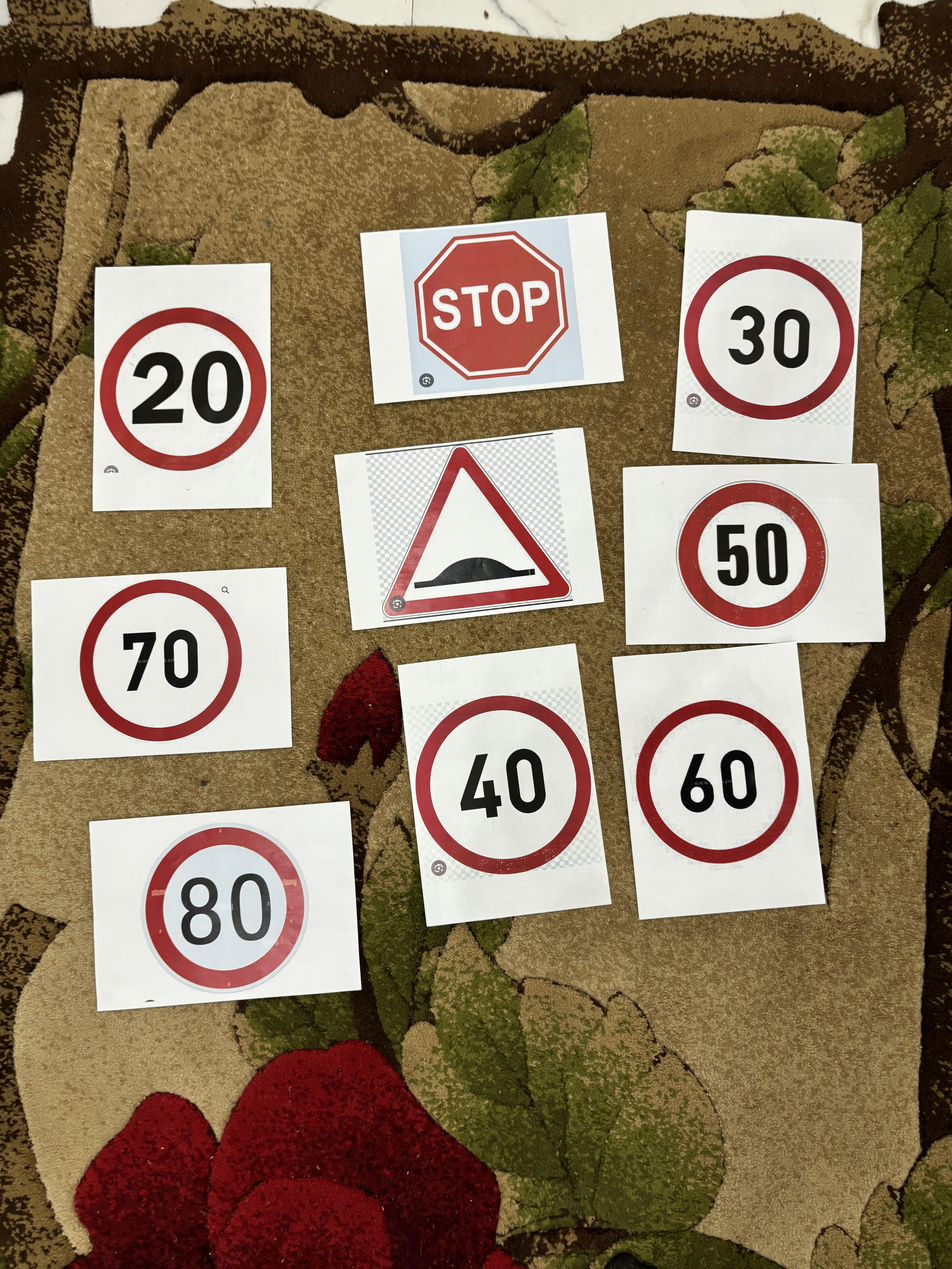20-Speed: (89, 298, 276, 472)
30-speed: (676, 243, 857, 419)
40-Speed: (403, 689, 598, 881)
50-Speed: (669, 480, 833, 629)
60-Speed: (629, 680, 808, 872)
70-Speed: (74, 574, 251, 746)
80-Speed: (138, 816, 315, 993)
Hump: (372, 445, 577, 620)
Stop: (409, 227, 578, 385)
